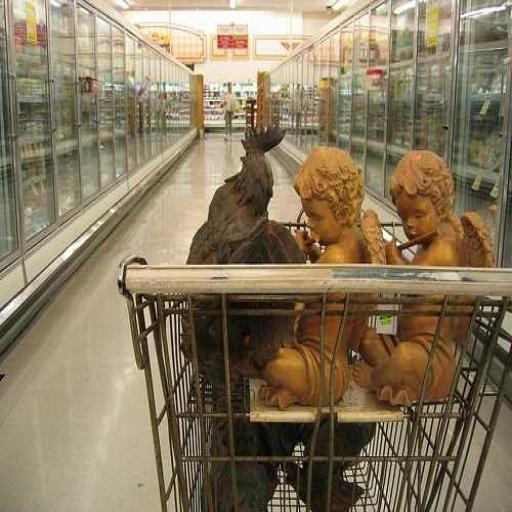shopping_cart: (116, 250, 512, 512)
